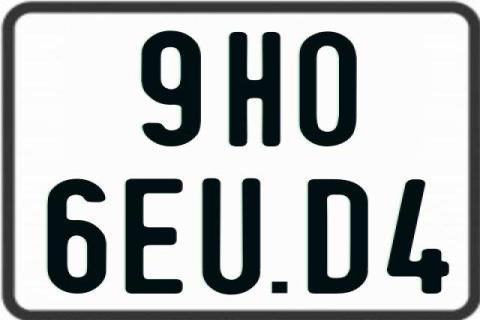0: (140, 28, 206, 148), (387, 179, 453, 296), (44, 178, 107, 294), (299, 29, 358, 147)
D: (308, 177, 374, 291)
E: (124, 177, 183, 292)
H: (228, 31, 282, 149)
U: (199, 176, 258, 296)
